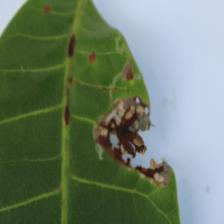leaf miner: (0, 0, 182, 223), (92, 94, 171, 188)
